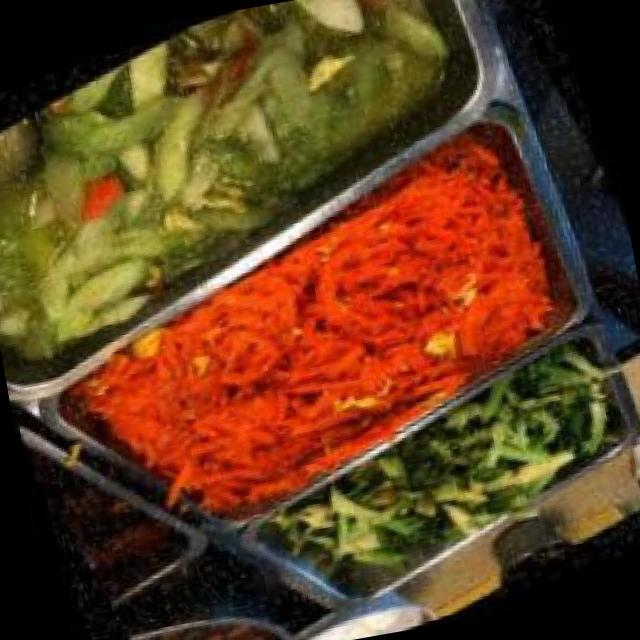carrot_eggs: (92, 143, 585, 533)
